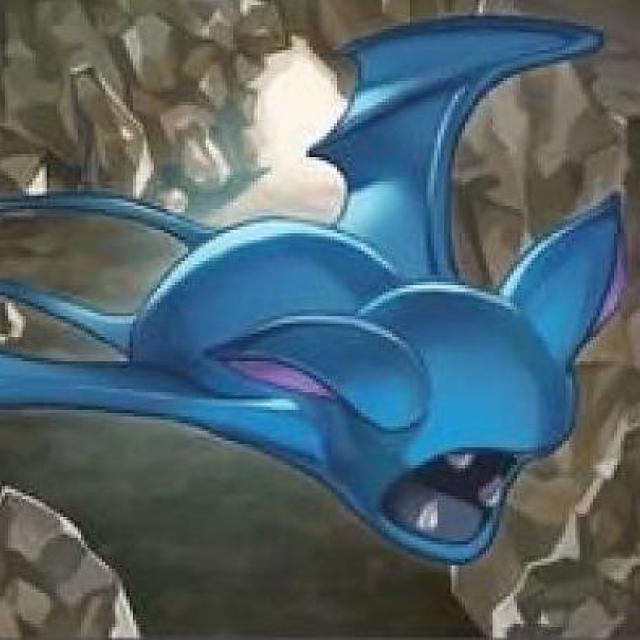Zubat: (38, 148, 627, 566)
